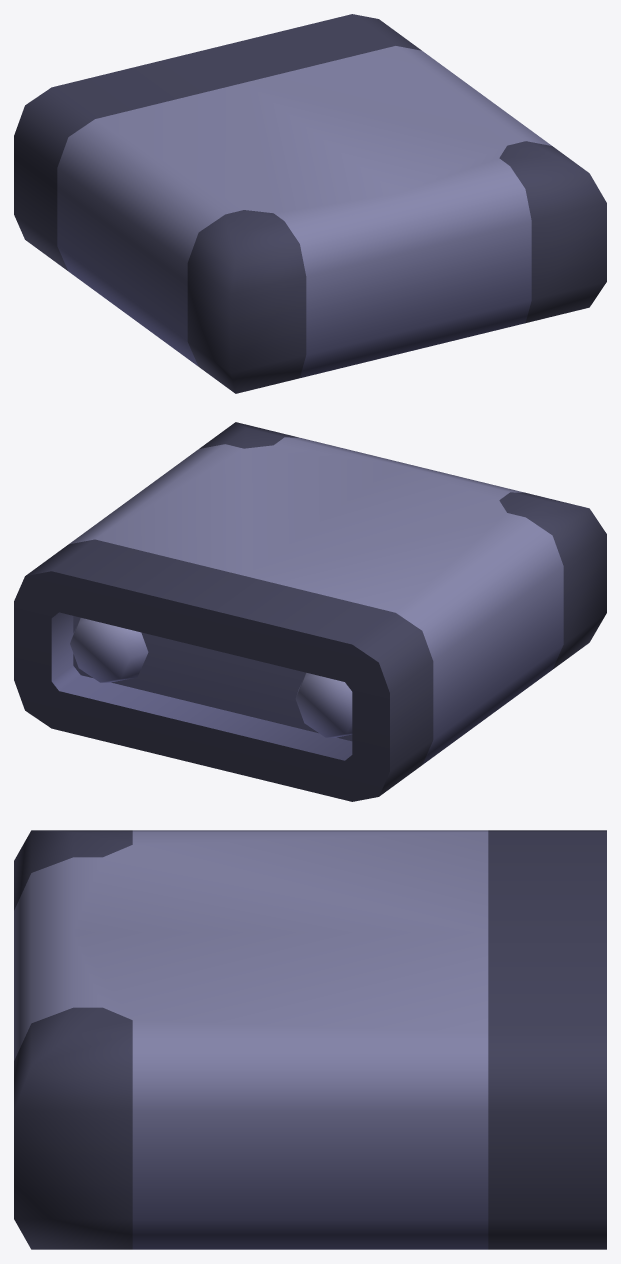
File: conveyor-stripe-junction-t.fbx
3 views of the same model, one above another, from view 1: azimuth 30°, elevation 25°; view 2: azimuth 150°, elevation 25°; view 3: azimuth 270°, elevation 25° (orthographic). The views are drawn at different scales.
Visible parts, largest first — view 1: conveyor-stripe-junction-t; view 2: conveyor-stripe-junction-t; view 3: conveyor-stripe-junction-t.
Boxes of the visible parts, left/top/right/bottom form: conveyor-stripe-junction-t: left=14, top=14, right=606, bottom=393; conveyor-stripe-junction-t: left=14, top=422, right=606, bottom=801; conveyor-stripe-junction-t: left=14, top=830, right=606, bottom=1249.
Size of the model in its own units: 100 by 40 by 100.
Materials: 1 (1 with a texture image).
